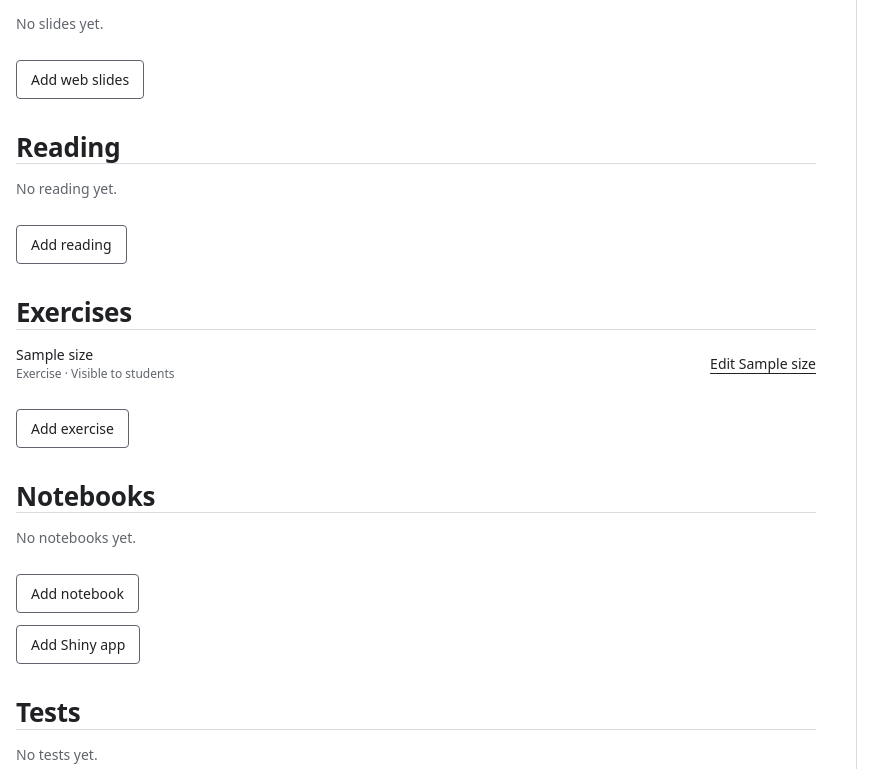
Test: exercise editor › lists what is wrong and sends no steps, saying the last saved version stays current
(page scrolled)
Click the button "Edit Sample size": [763, 363] box [710,345,816,381]
(page scrolled)
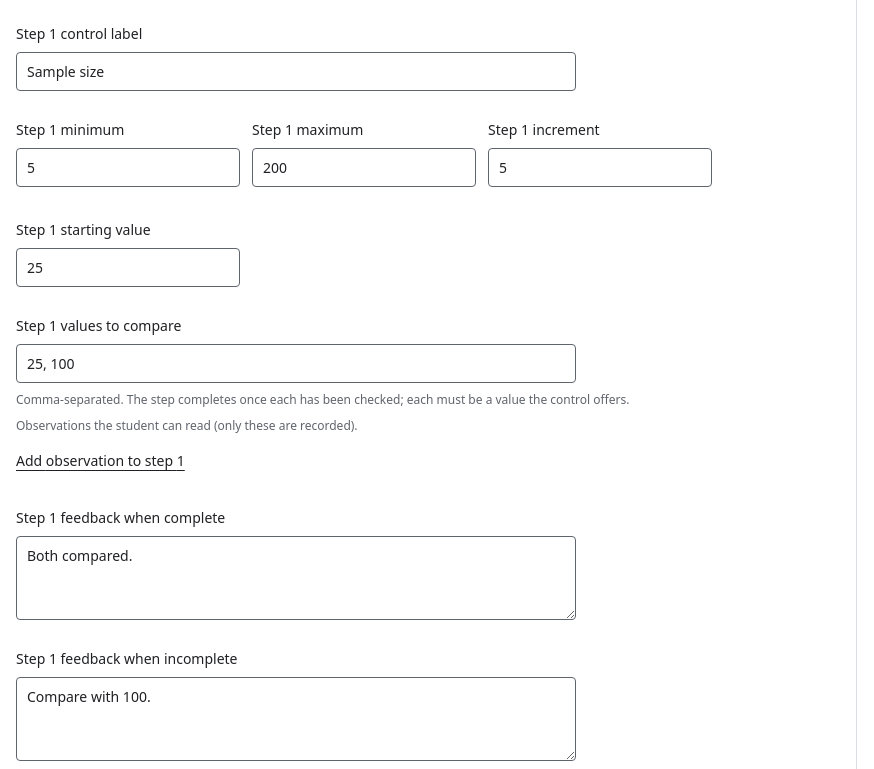
Replace the text in the 6th field with "25, 102": [296, 363] box [16,344,576,382]
(page scrolled)
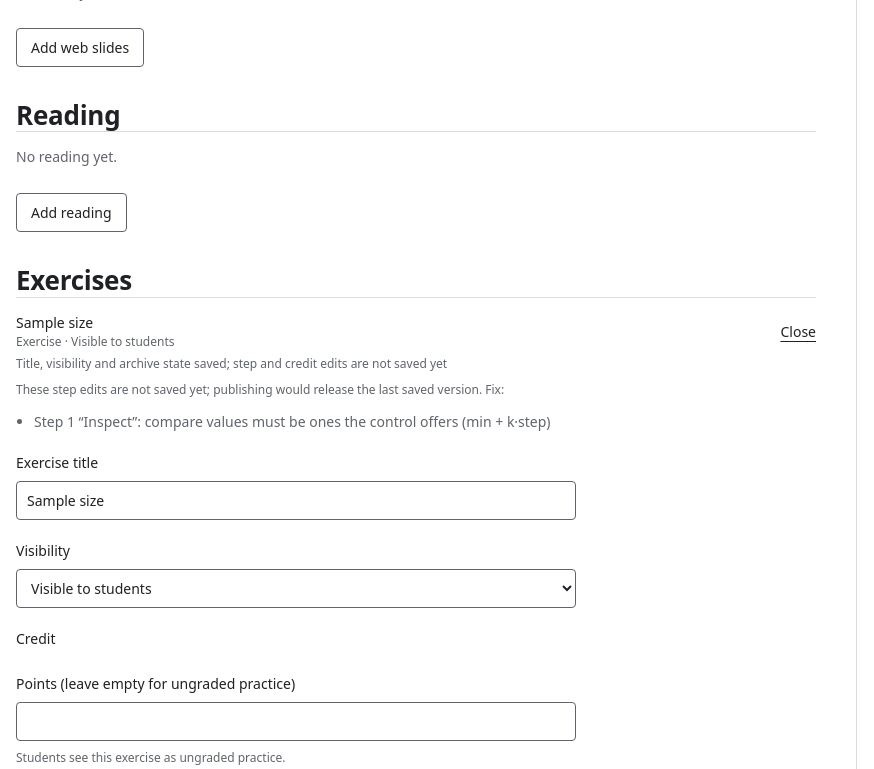
Expected: the text "not saved yet; publishing would release the last saved version" is shown, [16,380,504,398]
Expected: the list item "Step 1 “Inspect”: compare values must be" is shown, [34,412,551,430]
Expected: the text "Title, visibility and archive state saved; step and credit edits are not saved yet" is shown, [16,354,447,372]
